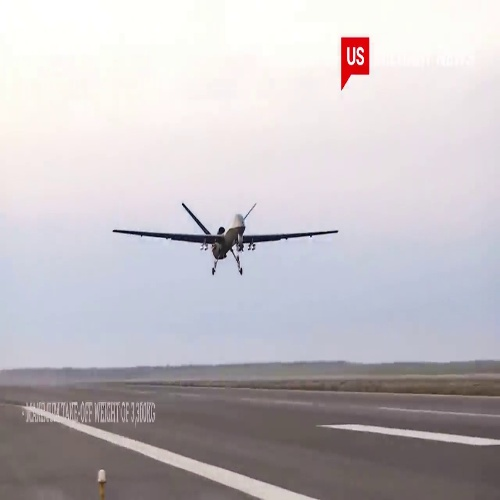uav: (110, 201, 339, 276)
